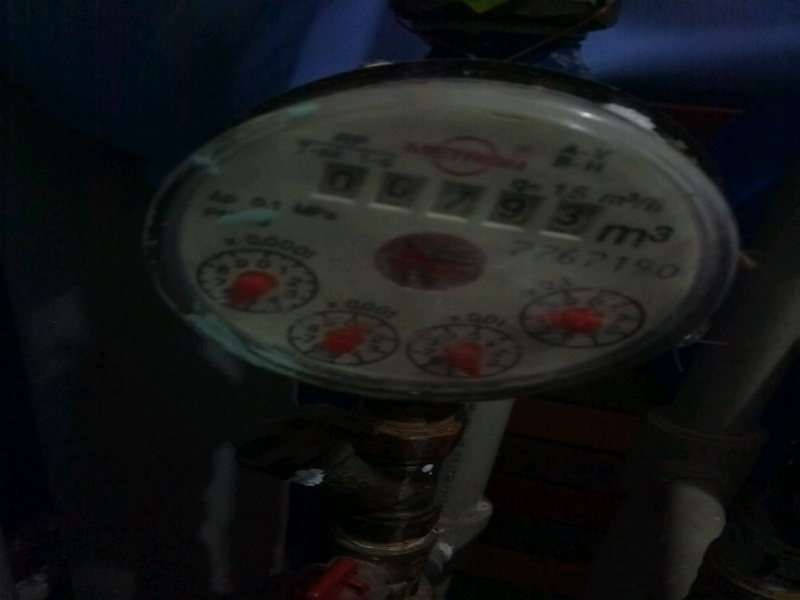meter: (311, 163, 588, 234)
